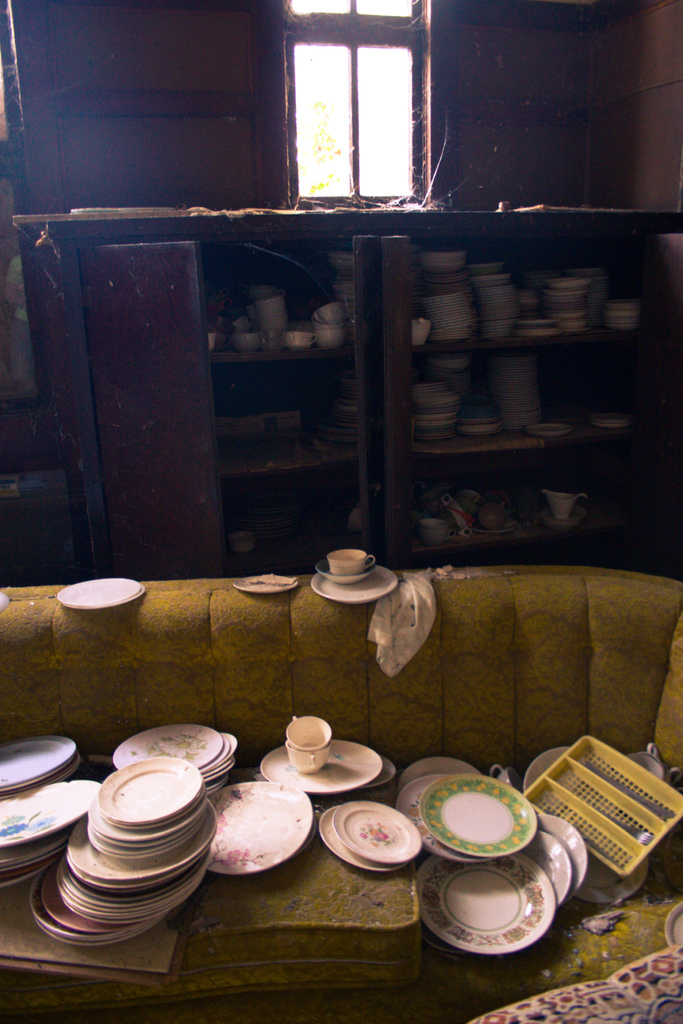plate: (300, 560, 403, 616), (49, 570, 140, 612), (231, 570, 305, 609), (526, 415, 573, 435)
